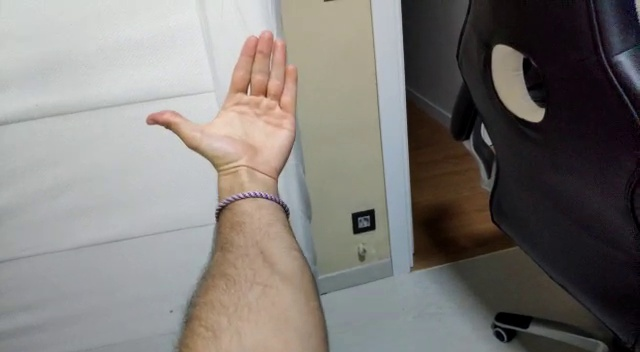Palm: (143, 26, 305, 183)
